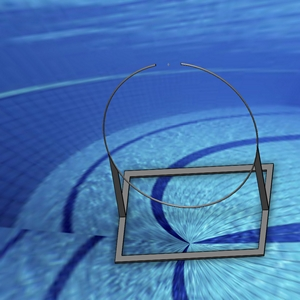circle: (101, 59, 273, 262)
